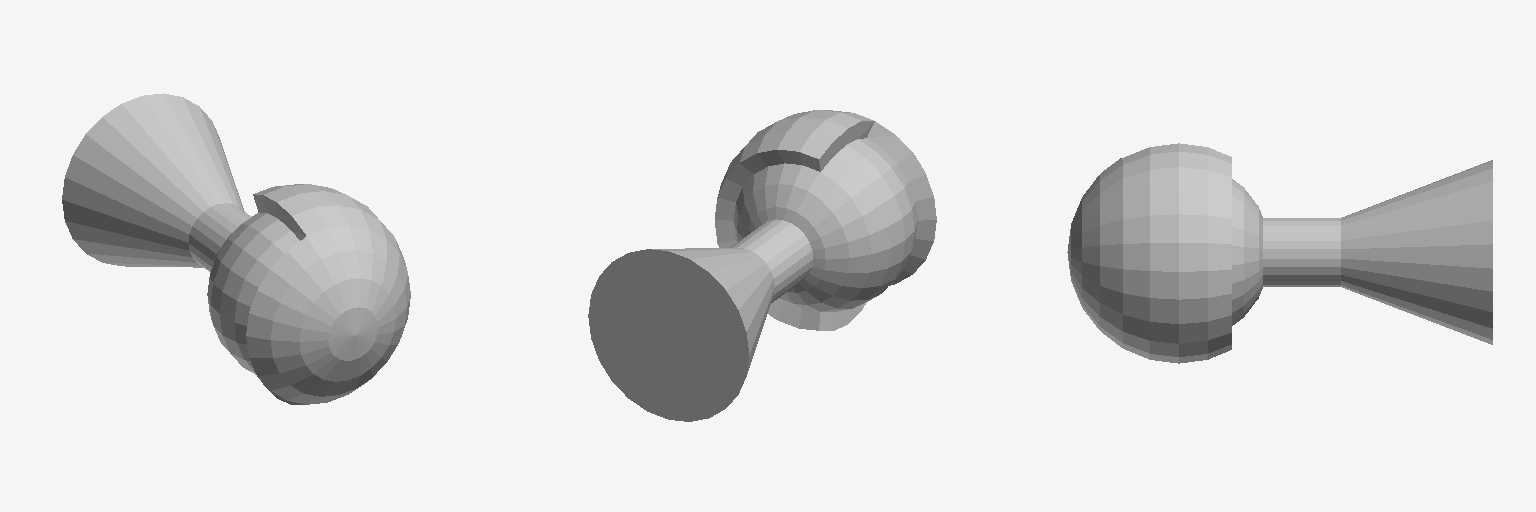
File: mom_rev2.obj
3 views of the same model, side by side, from view 1: azimuth 30°, elevation 25°; view 2: azimuth 150°, elevation 25°; view 3: azimuth 270°, elevation 25° (orthographic).
Visible parts, largest first — view 1: Mesh; view 2: Mesh; view 3: Mesh.
Part boxes in pixels (x1,y1,x2,y2): Mesh: (62, 93, 410, 404); Mesh: (588, 110, 936, 421); Mesh: (1067, 143, 1492, 363).
Bounding box in the file's own units: 1.02 × 1.1 × 2.1.